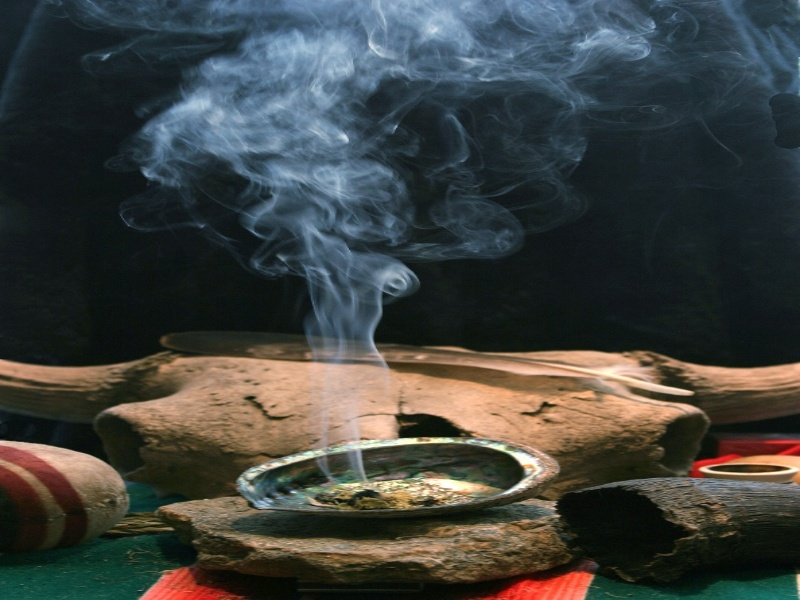smoke: (118, 1, 556, 244)
